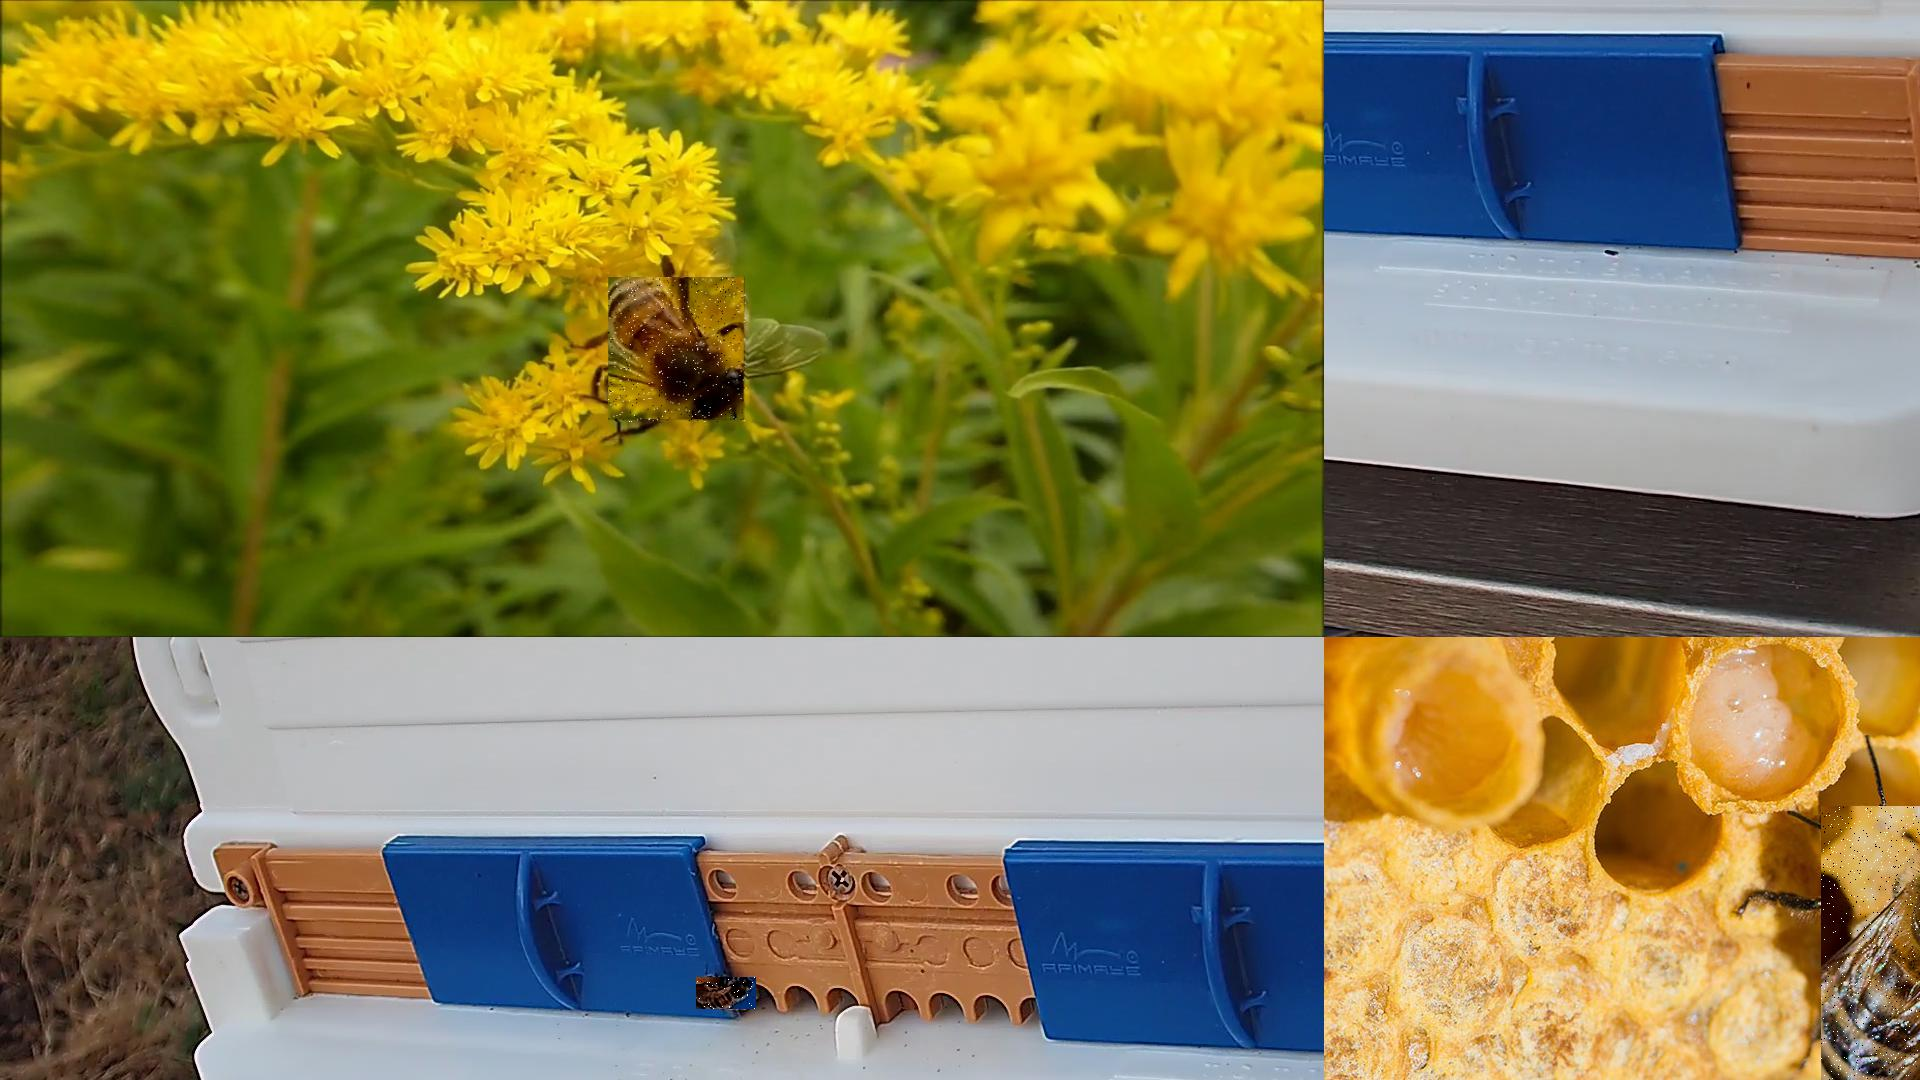bee: (1821, 806, 1919, 1079), (609, 277, 749, 423), (696, 977, 757, 1010)
